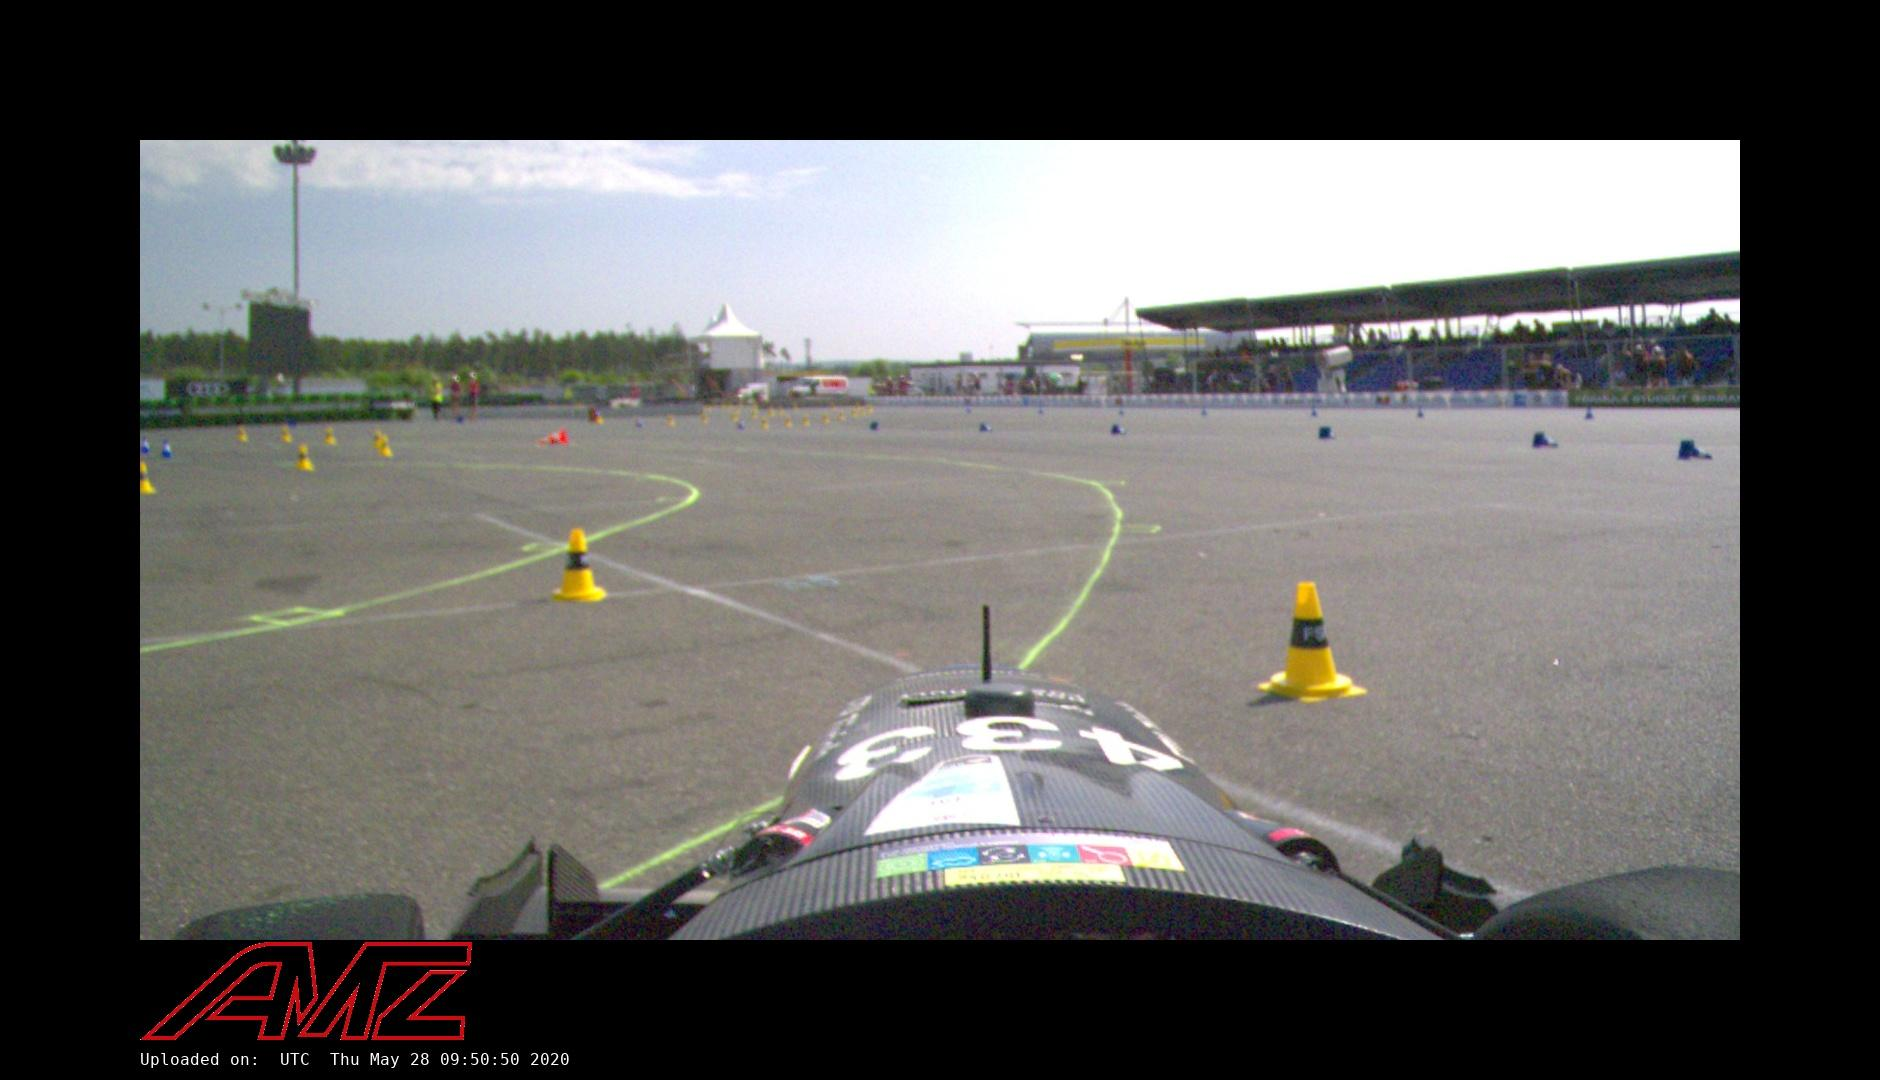blue_cone: (1676, 438, 1716, 461), (1530, 430, 1563, 449), (159, 438, 174, 460), (140, 434, 152, 455), (1318, 426, 1337, 439), (1583, 403, 1595, 420), (1110, 424, 1128, 435), (978, 422, 995, 432), (1309, 405, 1319, 418), (1417, 405, 1425, 418)
orange_cone: (537, 426, 570, 446)
yellow_cone: (1261, 579, 1365, 702), (548, 528, 605, 603), (140, 461, 157, 496), (295, 443, 314, 471), (377, 435, 395, 458), (323, 426, 339, 445), (235, 424, 250, 442), (279, 424, 293, 443), (371, 430, 384, 449)
